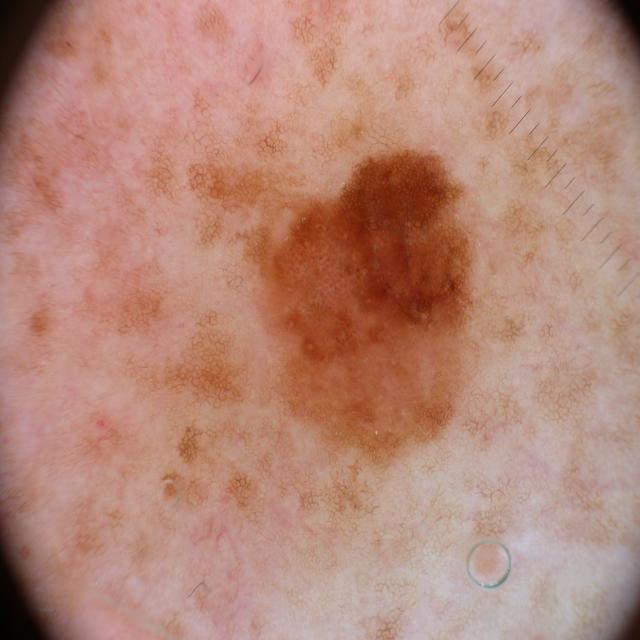Benign: (263, 146, 478, 461)
